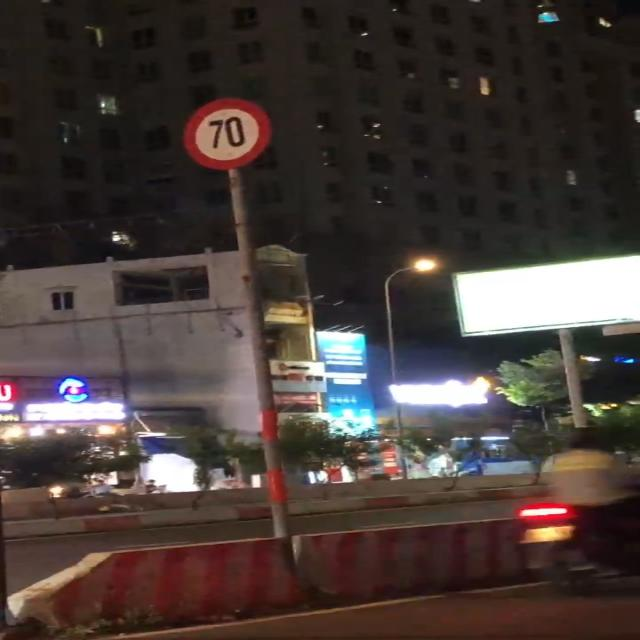Bien bao toc do toi da cho phep: (178, 95, 276, 170)
